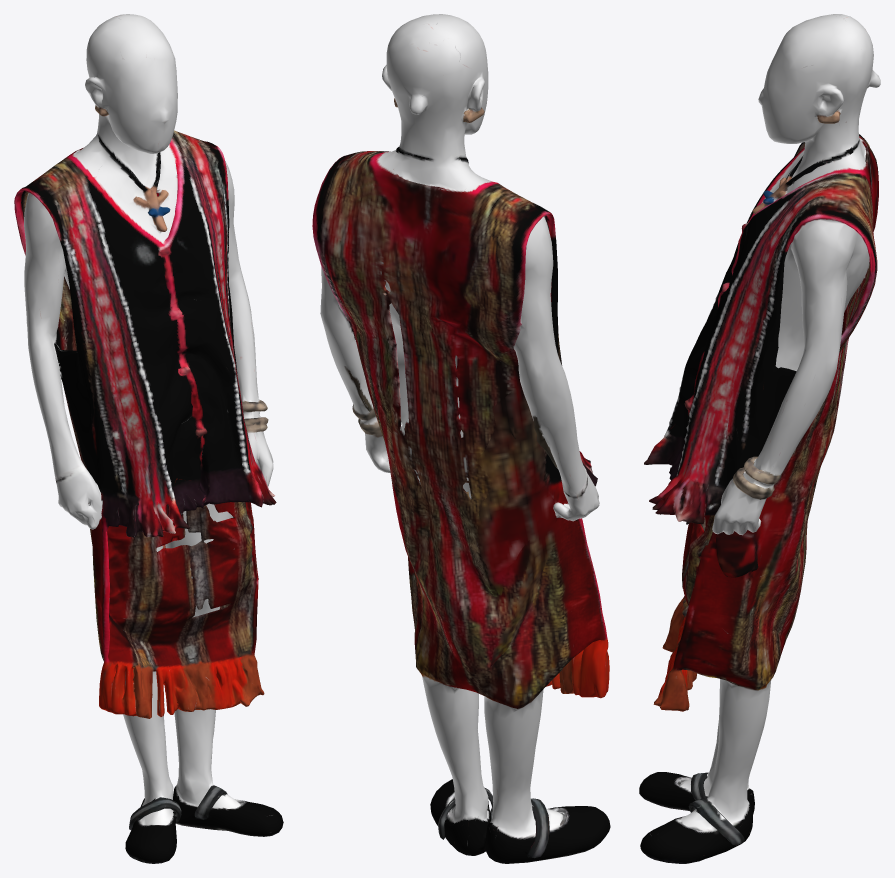
File: Ma_nam_00001.glb
The picture shows the model from 3 angles, left to right: view 1: azimuth 30°, elevation 25°; view 2: azimuth 150°, elevation 25°; view 3: azimuth 270°, elevation 25°; orthographic projection. The views are drawn at different scales.
Size of the model in its own units: 0.2724 by 0.9458 by 0.2536.
Materials: 1 (1 with a texture image).
